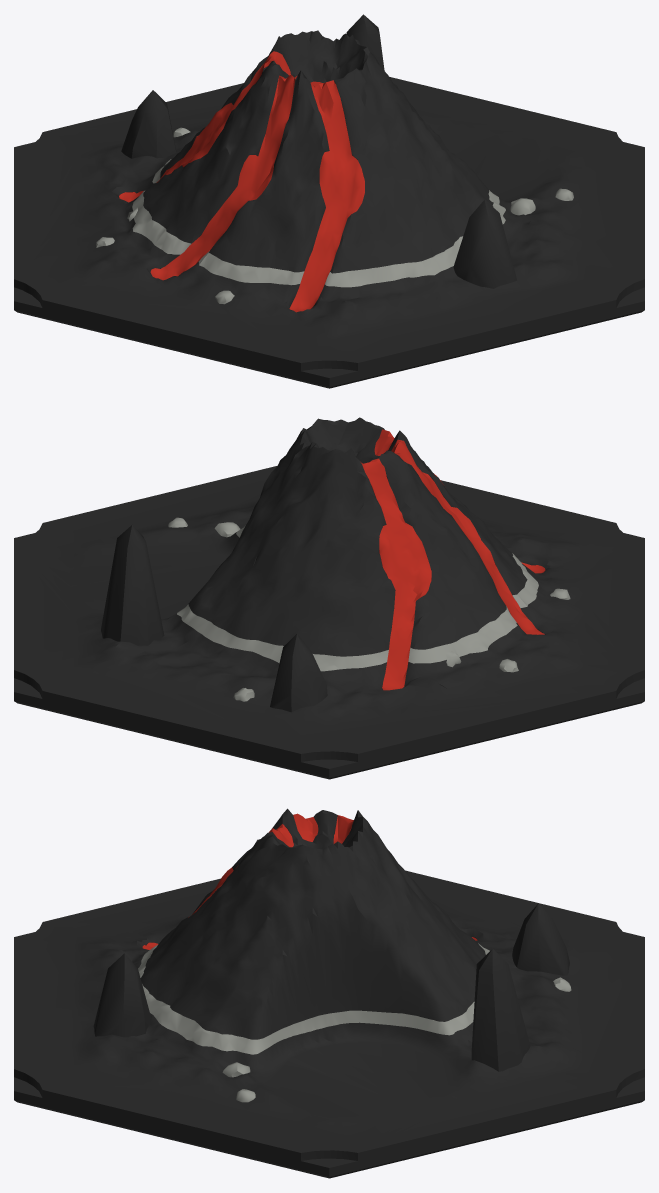
Rendered from feuerberg_1.glb.
The picture shows the model from 3 angles, top to bottom: view 1: azimuth 30°, elevation 25°; view 2: azimuth 150°, elevation 25°; view 3: azimuth 270°, elevation 25°; orthographic projection.
Parts seen in each view (by area): view 1: feuerberg_1; view 2: feuerberg_1; view 3: feuerberg_1.
Boxes of the visible parts, x1=… form: feuerberg_1: x1=14, y1=14, x2=644, y2=388; feuerberg_1: x1=14, y1=417, x2=644, y2=779; feuerberg_1: x1=14, y1=808, x2=644, y2=1178.
Bounding box in the file's own units: 65.24 × 19.64 × 56.5.
